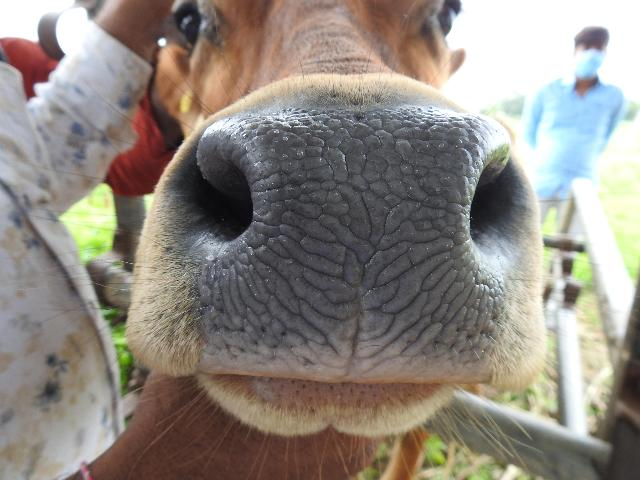Muzzle: (261, 116, 467, 364)
